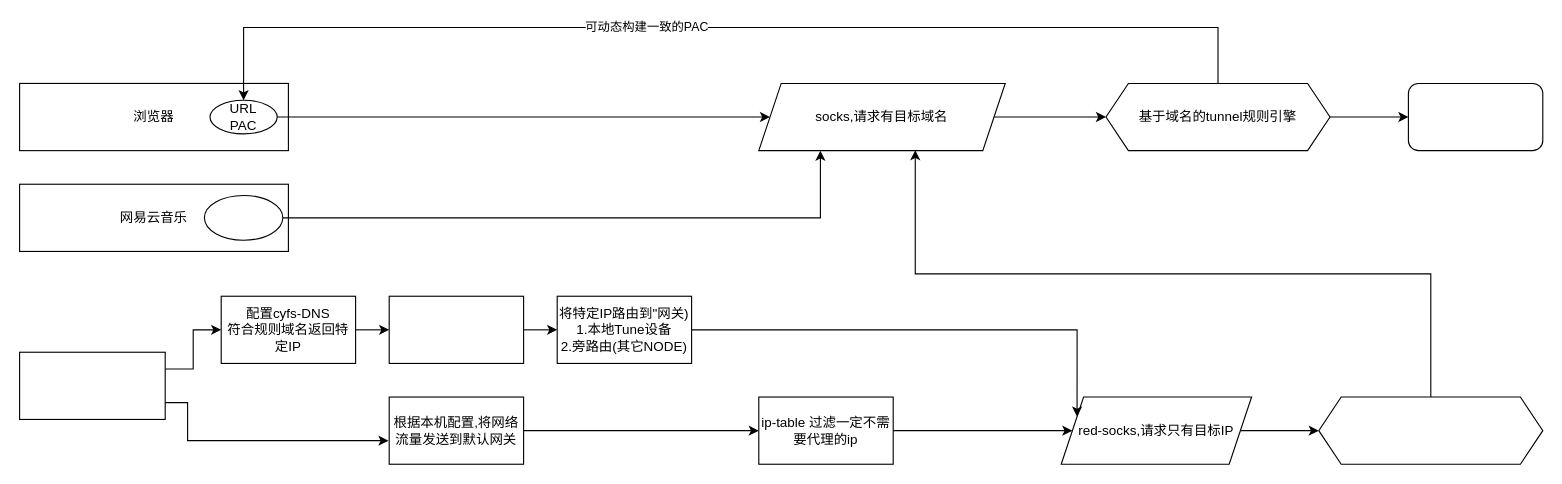
Image size: 1562x484. Some labels were removed from this diagram. The centre of each missing label's shape, as x and y in pixels:
"apt (不支持配置代理)" goes at pixel 91 385.
"cyfs-dns的反查" goes at pixel 1430 430.
"open_tunnel open_stream" goes at pixel 1475 116.
"配置代理" goes at pixel 243 217.
"配置本机路由表" goes at pixel 456 329.
